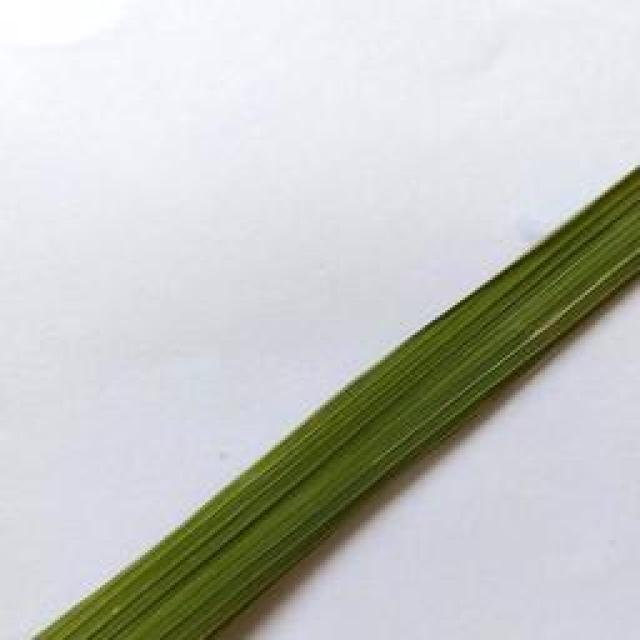Healthy-Plant: (27, 160, 640, 639)
